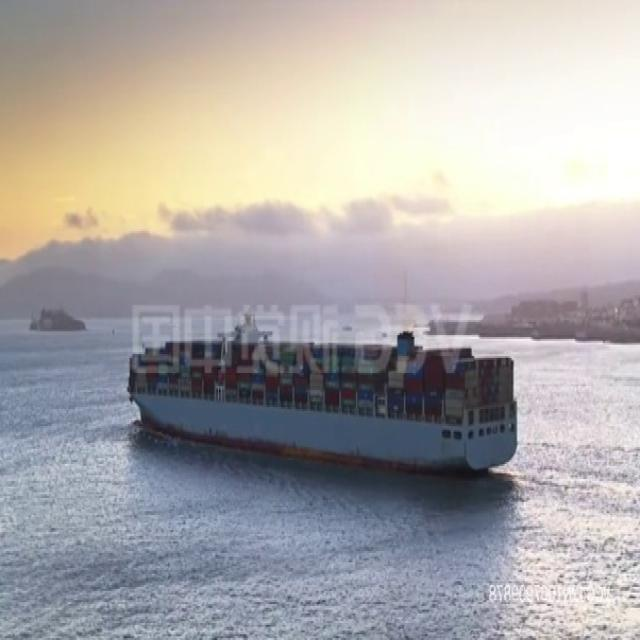cargoship: (127, 317, 520, 471)
